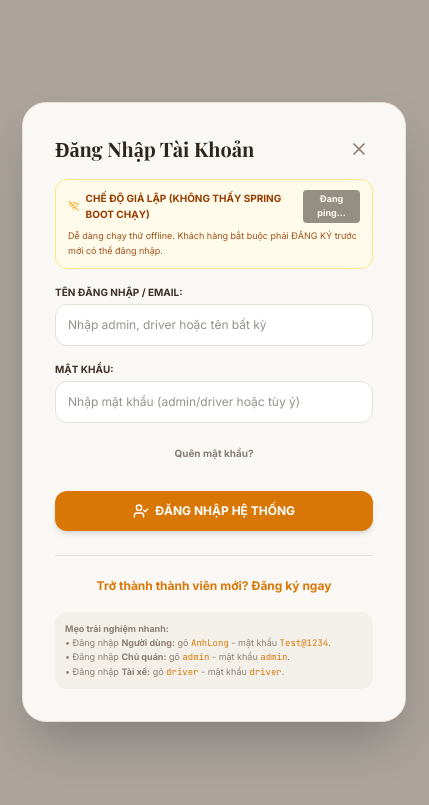
it: AuthModal › returns to login form from register
The width and height of the screenshot is (429, 805).
Click the button "Trở thành thành viên mới? Đăng ký ngay" at (214, 586), box x1=97 y1=578 x2=331 y2=594
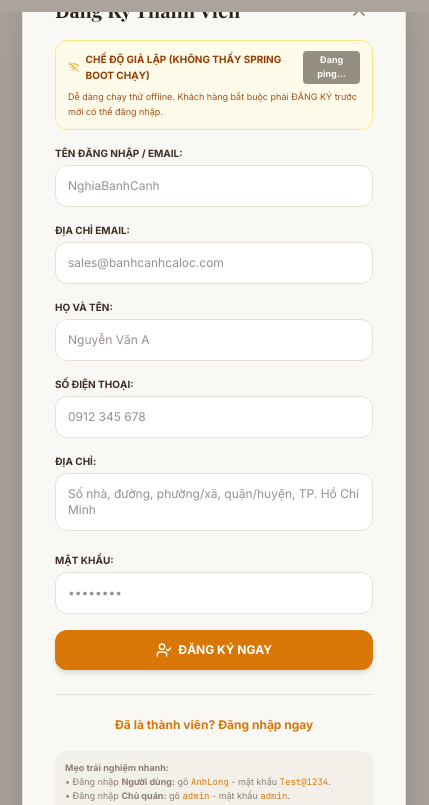
Click the button "Đã là thành viên? Đăng nhập ngay" at (214, 725), box x1=115 y1=717 x2=313 y2=733
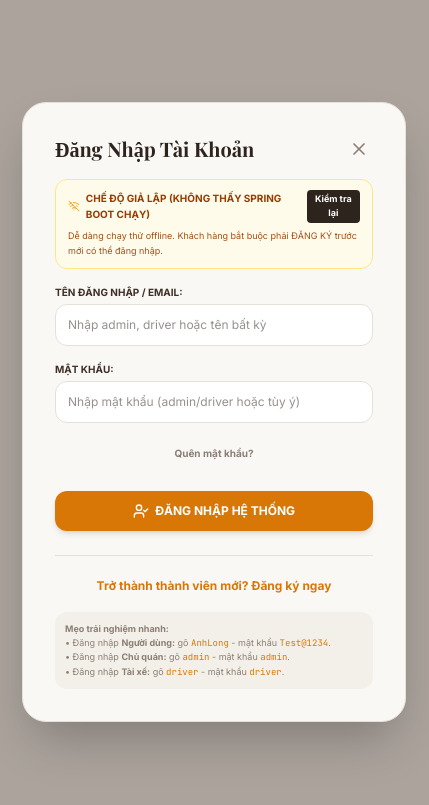
expect the heading "Đăng Nhập Tài Khoản" is shown: met, box x1=55 y1=135 x2=254 y2=163
